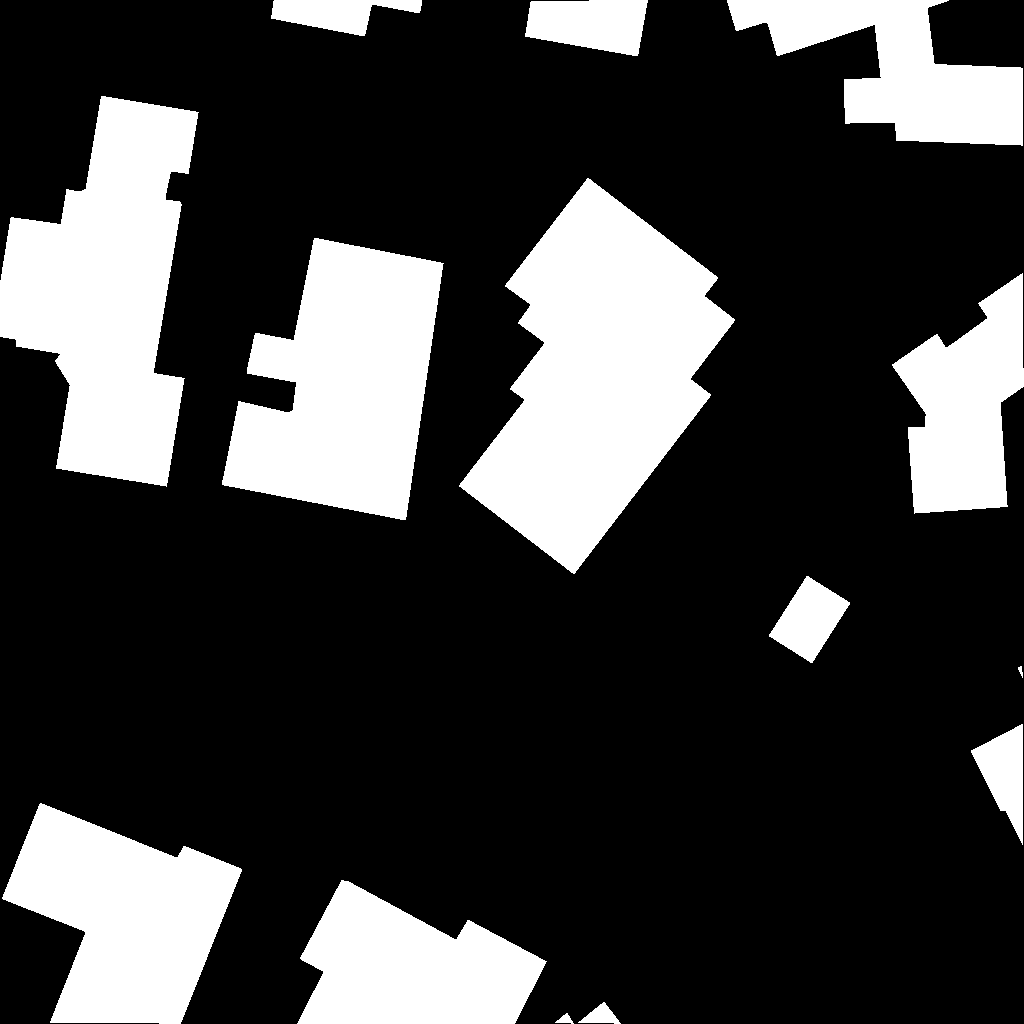building: (459, 178, 736, 575), (0, 96, 199, 487), (222, 238, 444, 521), (2, 803, 243, 1024), (727, 0, 1024, 146), (297, 879, 548, 1024), (892, 273, 1024, 514), (971, 666, 1024, 847), (769, 576, 851, 664), (525, 0, 649, 57), (271, 0, 423, 37), (555, 1002, 622, 1024)
